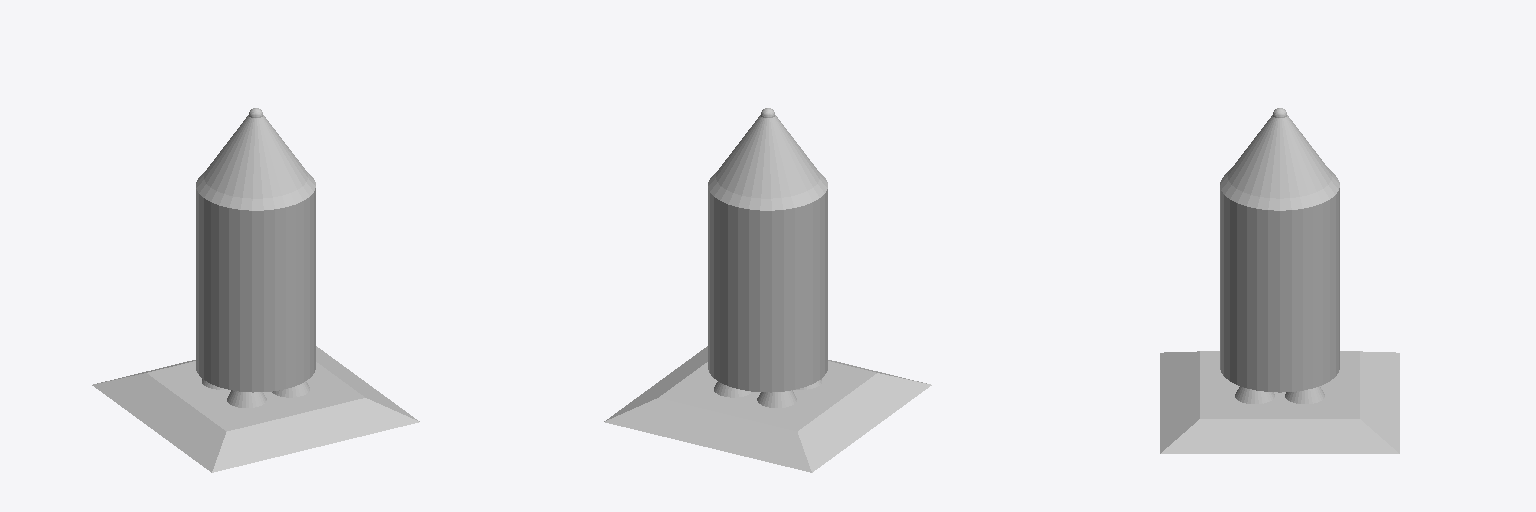
File: standing_rocket_pad.obj
3 views of the same model, side by side, from view 1: azimuth 30°, elevation 25°; view 2: azimuth 150°, elevation 25°; view 3: azimuth 270°, elevation 25° (orthographic).
Parts seen in each view (by area): view 1: Cylinder, Cube_Cube.001; view 2: Cylinder, Cube_Cube.001; view 3: Cylinder, Cube_Cube.001.
Boxes of the visible parts, box(x1,y1,x2,y2) form: Cylinder: box(196, 108, 315, 407); Cube_Cube.001: box(92, 346, 419, 472); Cylinder: box(708, 108, 827, 407); Cube_Cube.001: box(604, 346, 931, 472); Cylinder: box(1220, 108, 1339, 403); Cube_Cube.001: box(1160, 351, 1399, 453).
Size of the model in its own units: 12 by 16.23 by 12.